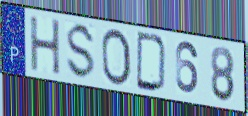6: (174, 40, 201, 99)
8: (209, 45, 236, 104)
D: (135, 30, 169, 95)
H: (28, 15, 62, 77)
O: (100, 27, 133, 88)
S: (64, 21, 97, 82)
